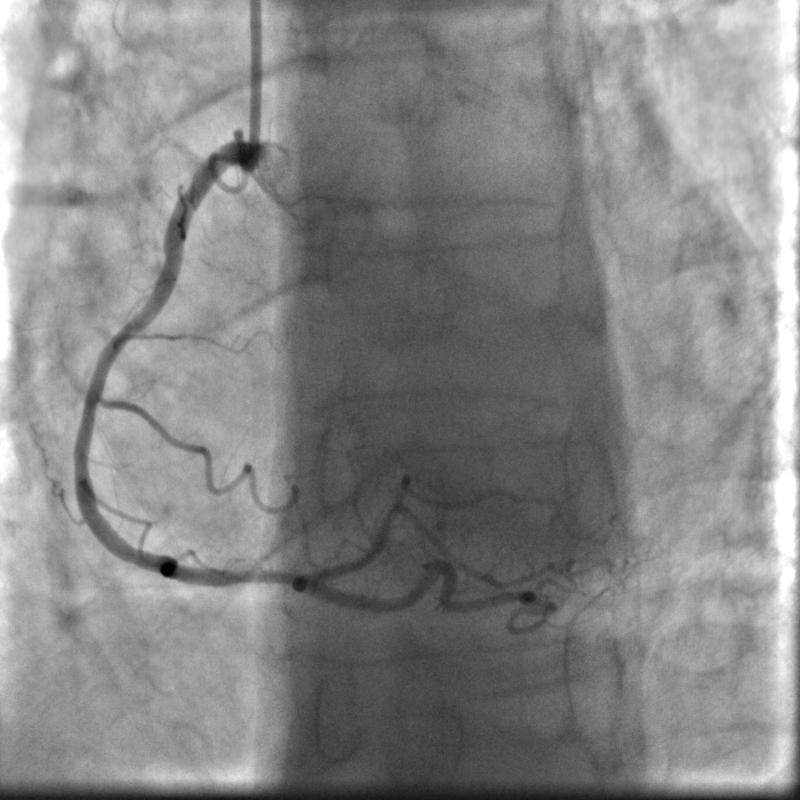Stenosis: (213, 559, 291, 603)
